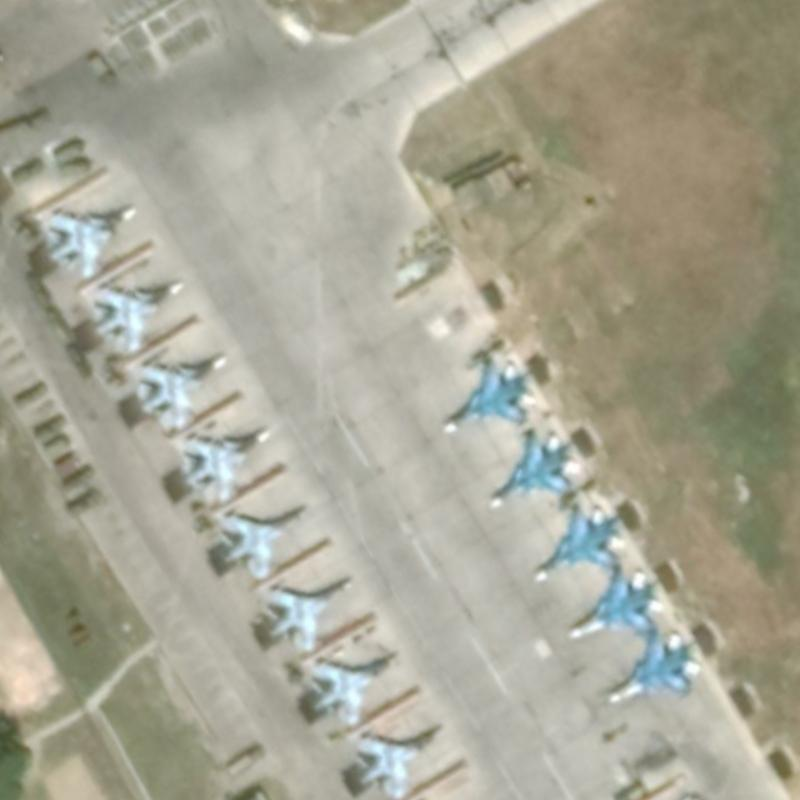A1: (349, 723, 448, 799), (213, 504, 309, 581), (307, 648, 400, 727), (263, 575, 355, 652)
A19: (486, 425, 583, 513), (528, 499, 628, 583), (437, 354, 538, 435), (562, 568, 668, 642), (603, 628, 704, 704), (175, 424, 272, 503), (134, 353, 226, 432), (44, 202, 137, 279), (91, 278, 183, 354)
